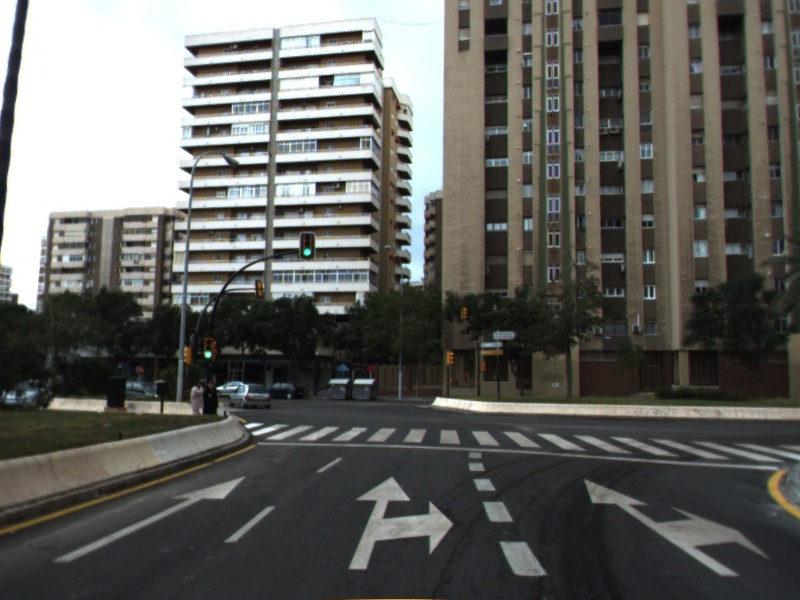STRAIGHT: (51, 474, 249, 565)
STRAIGHT_RIGHT: (582, 477, 773, 578), (346, 474, 456, 571)
